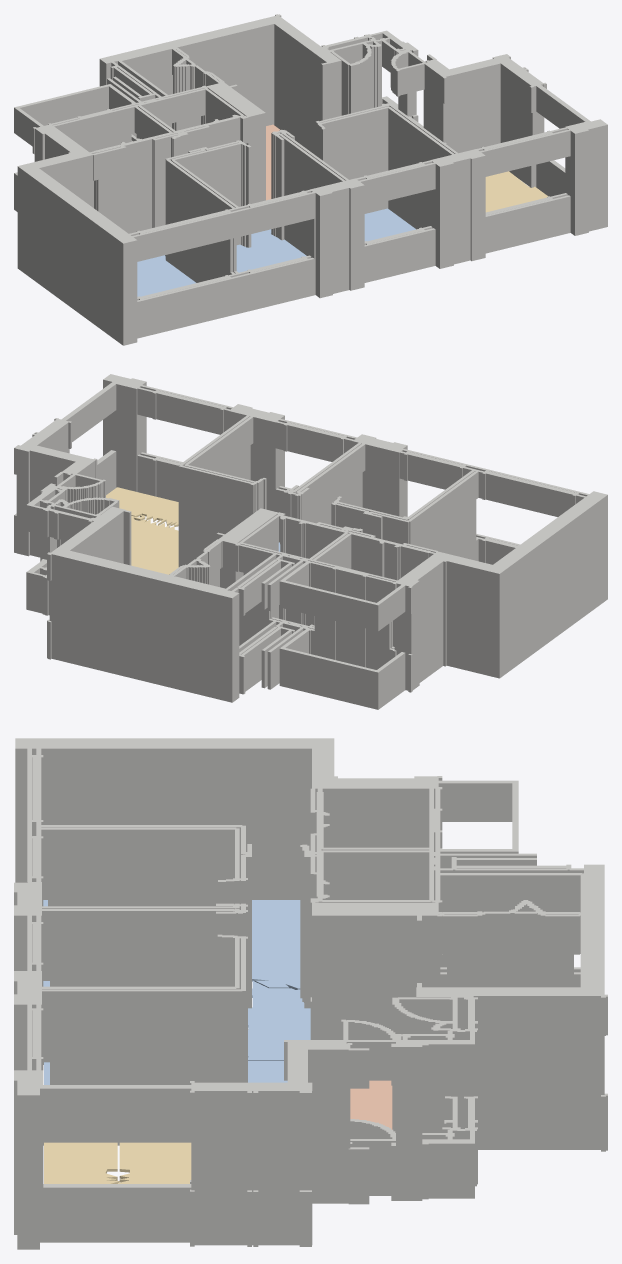
The picture shows the model from 3 angles, top to bottom: view 1: azimuth 30°, elevation 25°; view 2: azimuth 150°, elevation 25°; view 3: azimuth 270°, elevation 25°; orthographic projection. The views are drawn at different scales.
Visible parts, largest first — view 1: walls, room:bedroom:8, room:living:5, room:bedroom:9, room:bedroom:7, room:kitchen:0; view 2: walls, room:living:5, room:living:6; view 3: walls, room:bedroom:9, room:bedroom:8, room:living:6, room:living:5, room:kitchen:0, room:bedroom:7.
Boxes of the visible parts, x1=… form: walls: x1=14, y1=14, x2=607, y2=345; room:bedroom:8: x1=236, y1=229, x2=306, y2=272; room:living:5: x1=485, y1=171, x2=548, y2=212; room:bedroom:9: x1=137, y1=255, x2=195, y2=296; room:bedroom:7: x1=364, y1=208, x2=415, y2=241; room:kitchen:0: x1=266, y1=124, x2=279, y2=200; walls: x1=14, y1=374, x2=607, y2=709; room:living:5: x1=131, y1=515, x2=178, y2=574; room:living:6: x1=106, y1=487, x2=178, y2=526; walls: x1=14, y1=738, x2=607, y2=1249; room:bedroom:9: x1=43, y1=900, x2=300, y2=989; room:bedroom:8: x1=43, y1=981, x2=310, y2=1060; room:living:6: x1=44, y1=1142, x2=119, y2=1183; room:living:5: x1=116, y1=1142, x2=191, y2=1183; room:kitchen:0: x1=350, y1=1080, x2=392, y2=1129; room:bedroom:7: x1=44, y1=1061, x2=287, y2=1084.
Bounding box in the file's own units: 13.91 × 2.8 × 9.78.
